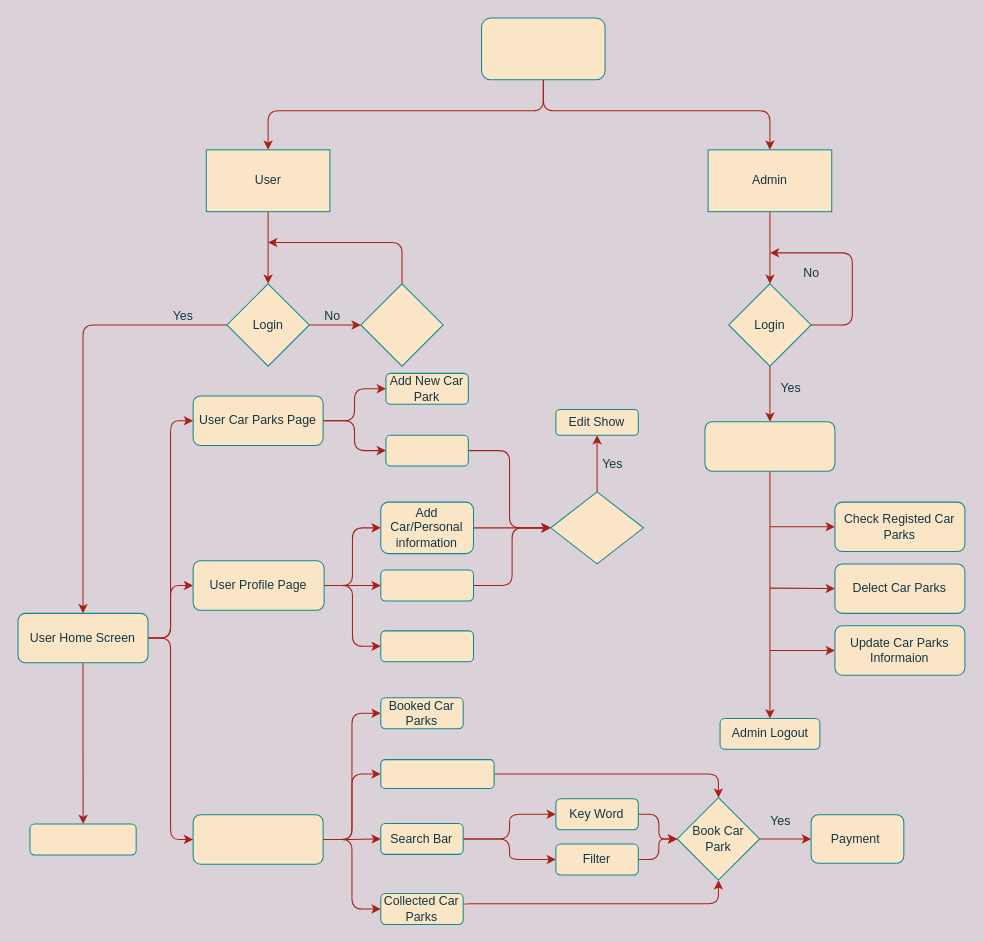
Image size: 984x942. Some labels were removed from this diagram. The centre of each missing label's shape, as x and y in pixels:
Admin Home Screen: (769,446)
Authentication: (596,527)
Bank Account: (426,585)
Explore: (257,839)
Login Page: (542,48)
Park History: (426,646)
Recommendation: (437,773)
Register: (401,324)
Update Information: (426,450)
User Logout: (82,839)
